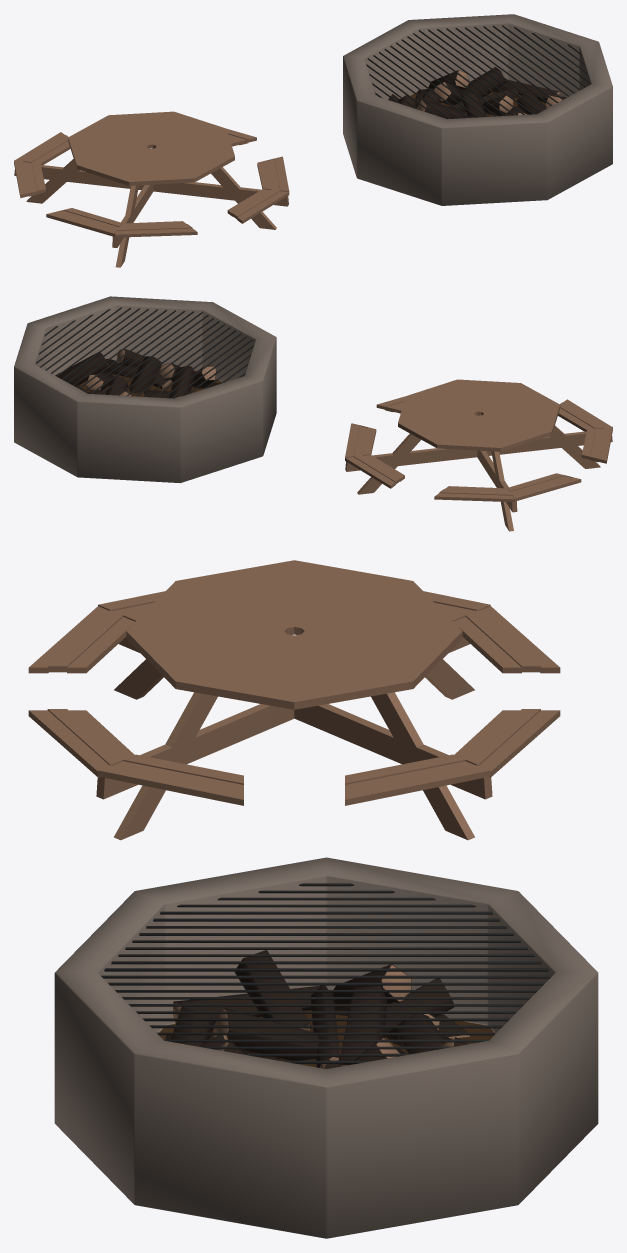
The model's file is Combined Mesh (root_ scene) 2.glb.
3 renders of one model, top to bottom at view 1: azimuth 30°, elevation 25°; view 2: azimuth 150°, elevation 25°; view 3: azimuth 270°, elevation 25°, orthographic. The views are drawn at different scales.
Parts seen in each view (by area): view 1: Combined Mesh (root_ scene) 2; view 2: Combined Mesh (root_ scene) 2; view 3: Combined Mesh (root_ scene) 2.
Part boxes in pixels (bbox=[...]): Combined Mesh (root_ scene) 2: bbox=[14, 14, 612, 267]; Combined Mesh (root_ scene) 2: bbox=[14, 296, 612, 531]; Combined Mesh (root_ scene) 2: bbox=[28, 560, 598, 1238].
Bounding box in the file's own units: 7.67 × 1.15 × 3.39.
1 material, 1 textured.
